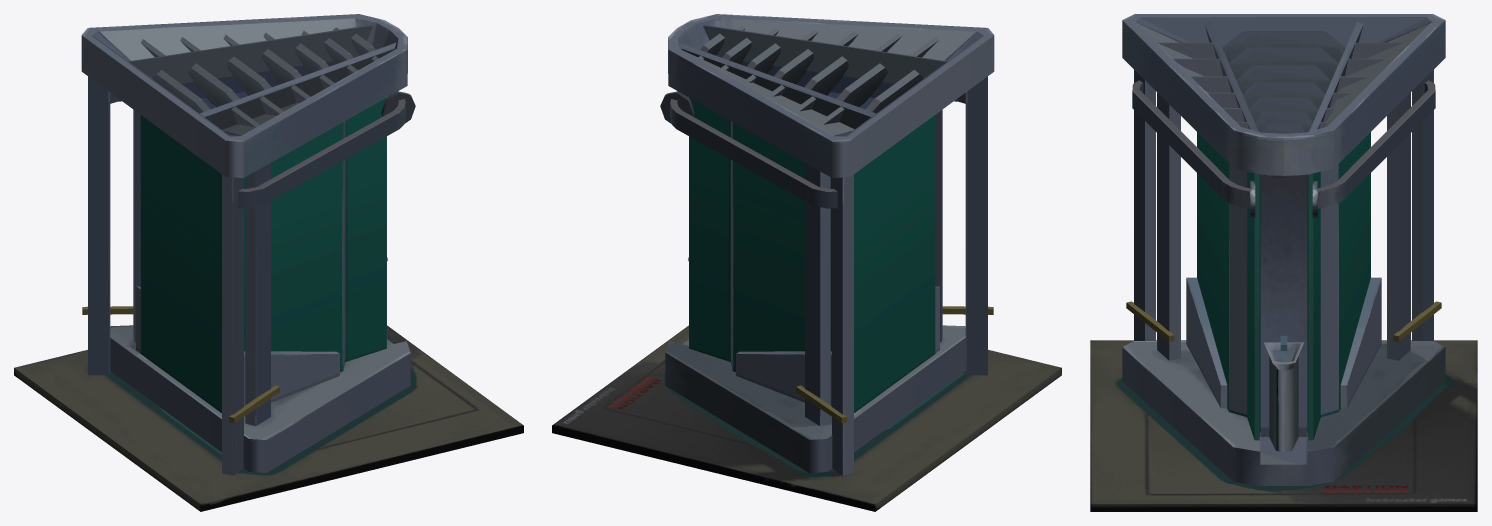
File: trap_206_mufrbk1.fbx
3 views of the same model, side by side, from view 1: azimuth 30°, elevation 25°; view 2: azimuth 150°, elevation 25°; view 3: azimuth 270°, elevation 25° (orthographic). The views are drawn at different scales.
Parts seen in each view (by area): view 1: trap_206_mufrbk1; view 2: trap_206_mufrbk1; view 3: trap_206_mufrbk1.
Boxes of the visible parts, left/top/right/bottom form: trap_206_mufrbk1: left=14, top=14, right=523, bottom=511; trap_206_mufrbk1: left=552, top=14, right=1061, bottom=511; trap_206_mufrbk1: left=1090, top=14, right=1477, bottom=511.
Size of the model in its own units: 0.9903 by 1.01 by 0.9903.
1 material, 1 textured.
